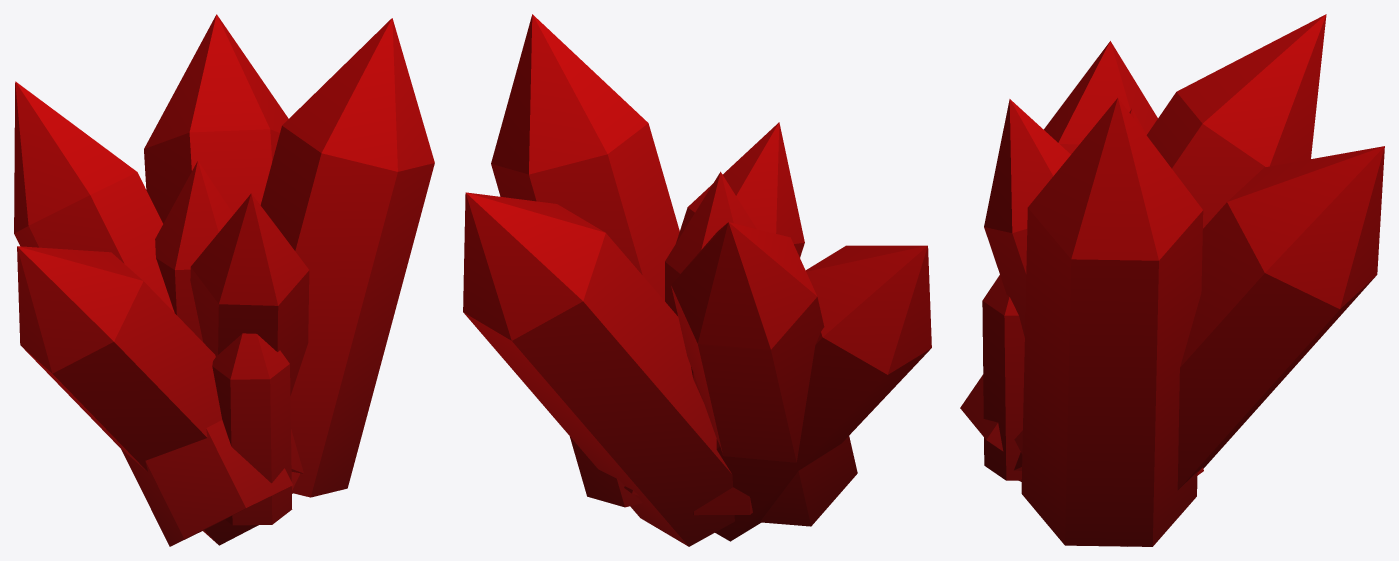
Rendered from crystal_0.glb.
3 renders of one model, left to right at view 1: azimuth 30°, elevation 25°; view 2: azimuth 150°, elevation 25°; view 3: azimuth 270°, elevation 25°, orthographic. The views are drawn at different scales.
Visible parts, largest first — view 1: crystal_0; view 2: crystal_0; view 3: crystal_0.
Boxes of the visible parts, bbox=[...] form: crystal_0: bbox=[14, 14, 434, 546]; crystal_0: bbox=[463, 14, 931, 546]; crystal_0: bbox=[960, 14, 1384, 546].
Size of the model in its own units: 1.45 by 1.59 by 1.2.
